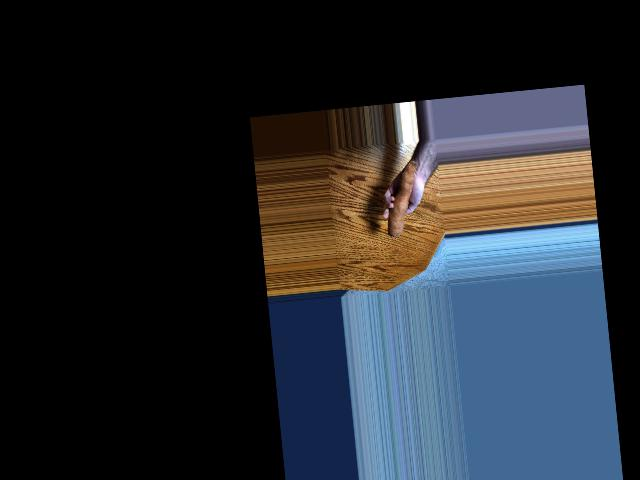sweet_potato: (379, 158, 425, 239)
